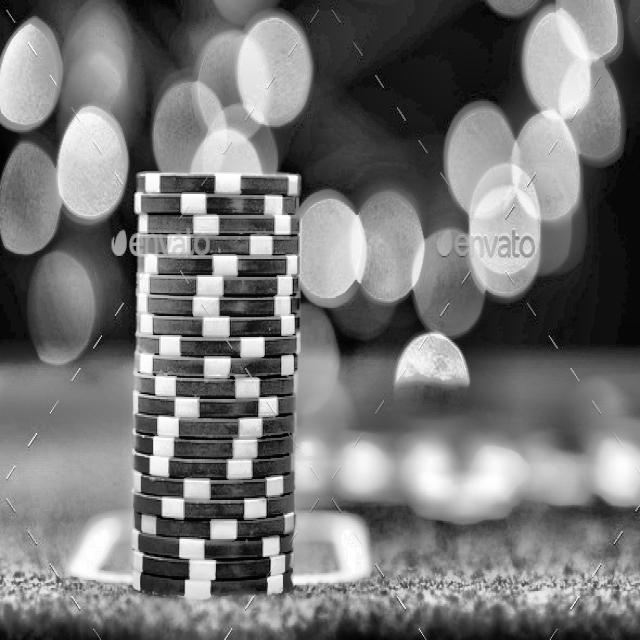Chip: (123, 159, 305, 604)
